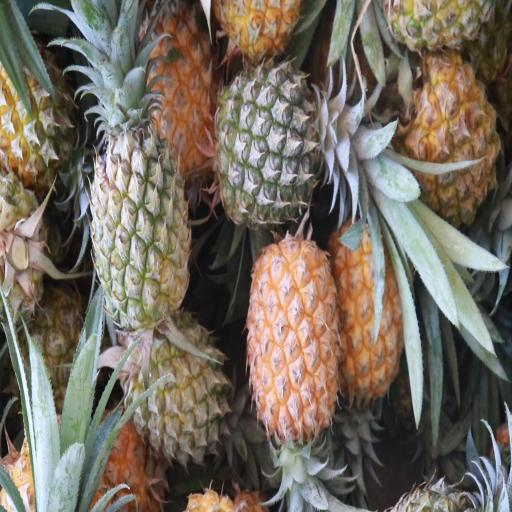------------------------------: (91, 116, 188, 316), (130, 314, 224, 456)
Pineapple - v8 v1: (252, 232, 342, 434), (412, 53, 501, 213), (340, 214, 418, 395), (134, 0, 218, 166)
